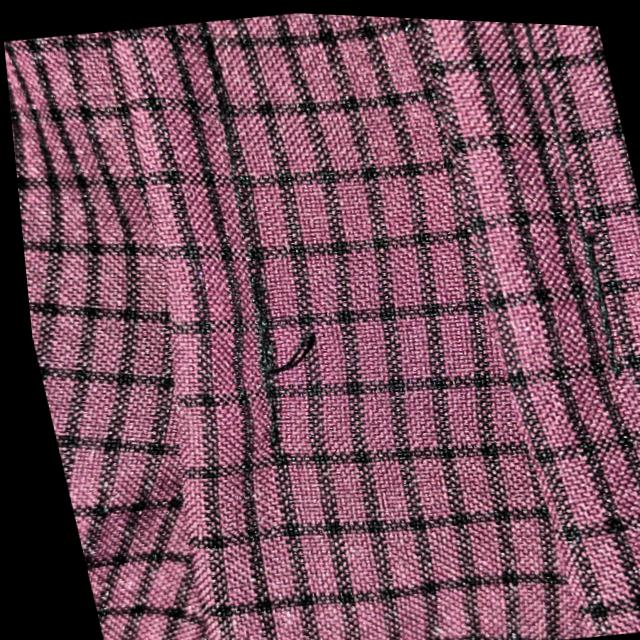Stitch: (191, 284, 350, 396)
